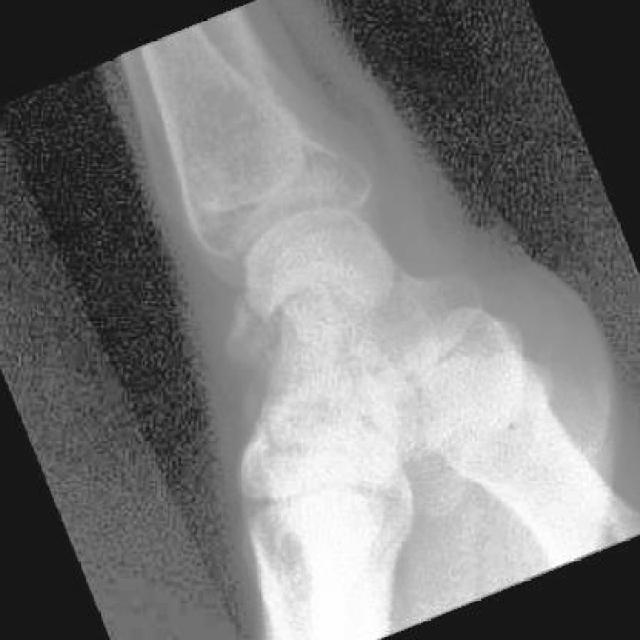Fracture: (228, 385, 356, 514)
